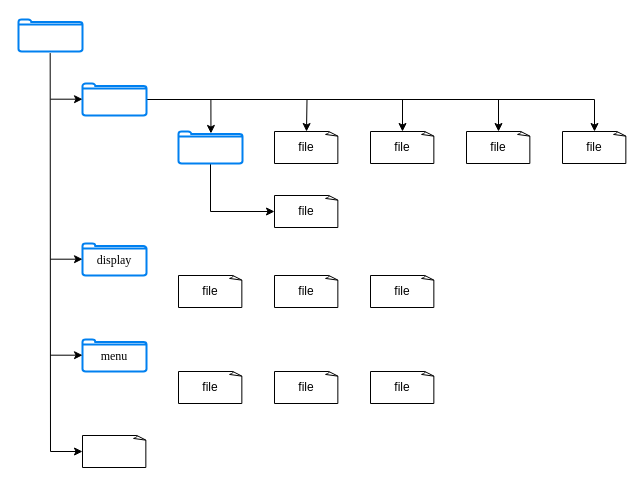
Image size: 644x485. Some labels were removed from this diagram. Each missing label, with the centre of its shape:
"data" belongs at point 210,147.
"database" belongs at point 114,99.
"main.py" belongs at point 114,451.
"working directory" belongs at point 50,35.
